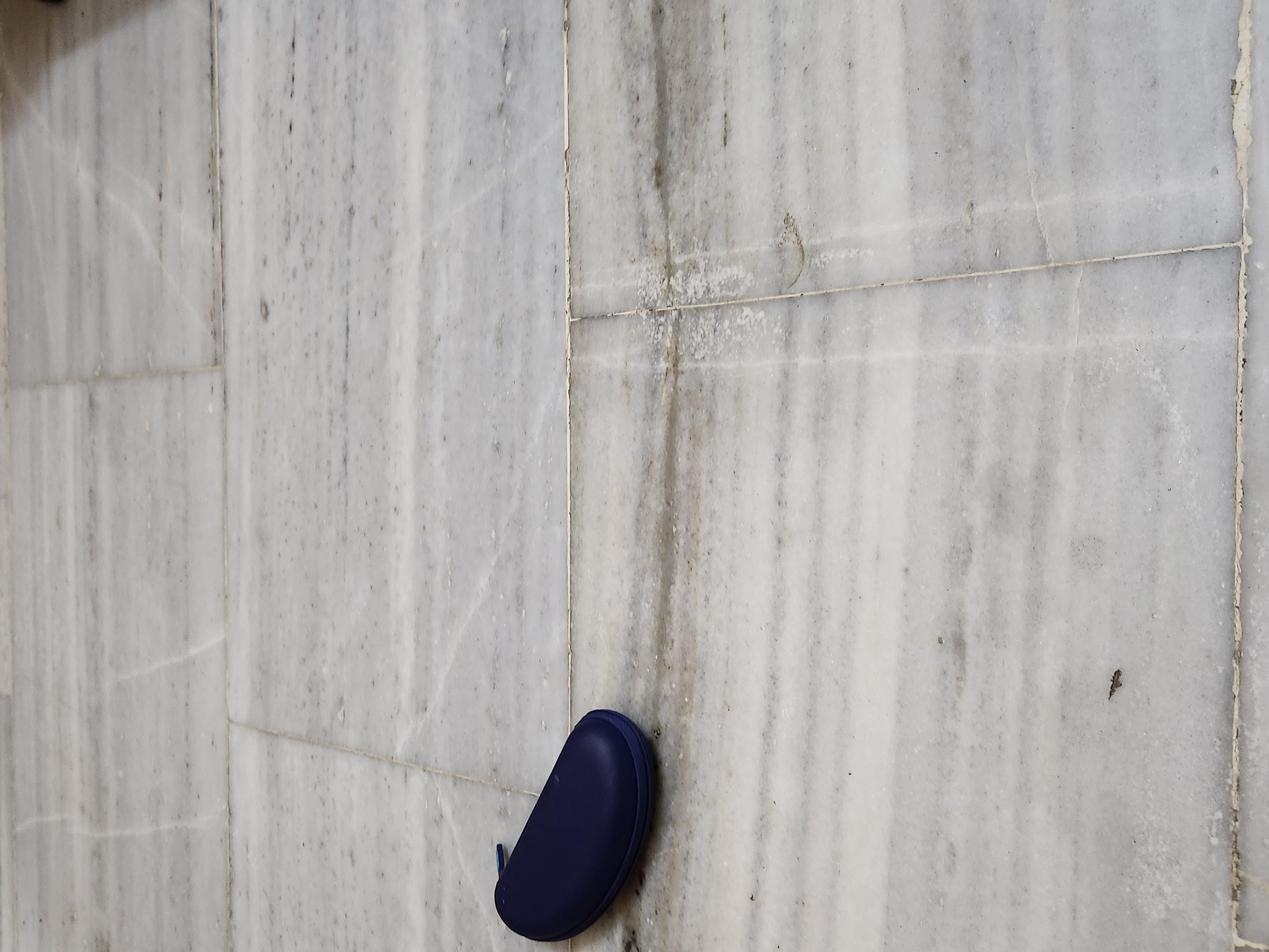case: (0, 365, 333, 505)
